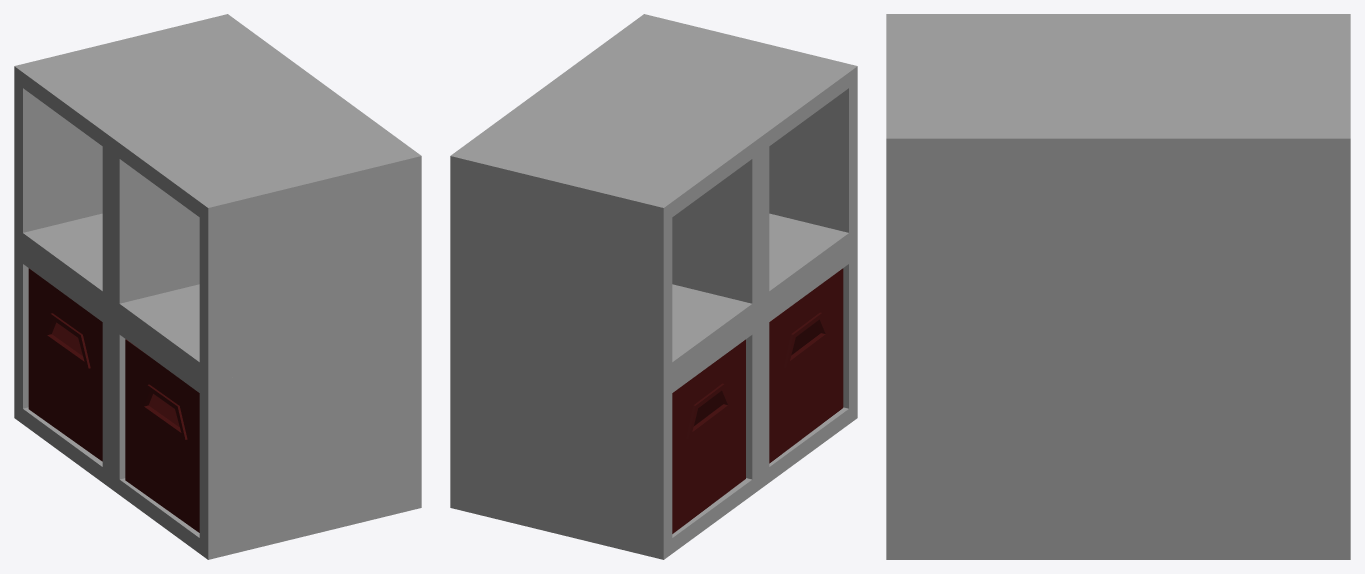
Rendered from storage shelves.fbx.
3 renders of one model, left to right at view 1: azimuth 30°, elevation 25°; view 2: azimuth 150°, elevation 25°; view 3: azimuth 270°, elevation 25°, orthographic. The views are drawn at different scales.
Parts seen in each view (by area): view 1: shelves, pCube6, pCube5; view 2: shelves, pCube6, pCube5; view 3: shelves.
Part boxes in pixels (x1,y1,x2,y2): shelves: (14,14,421,559); pCube6: (125,339,199,532); pCube5: (28,268,102,461); shelves: (450,14,857,559); pCube6: (769,268,843,463); pCube5: (672,339,745,533); shelves: (886,14,1350,559).
Size of the model in its own units: 154 by 242 by 242.
